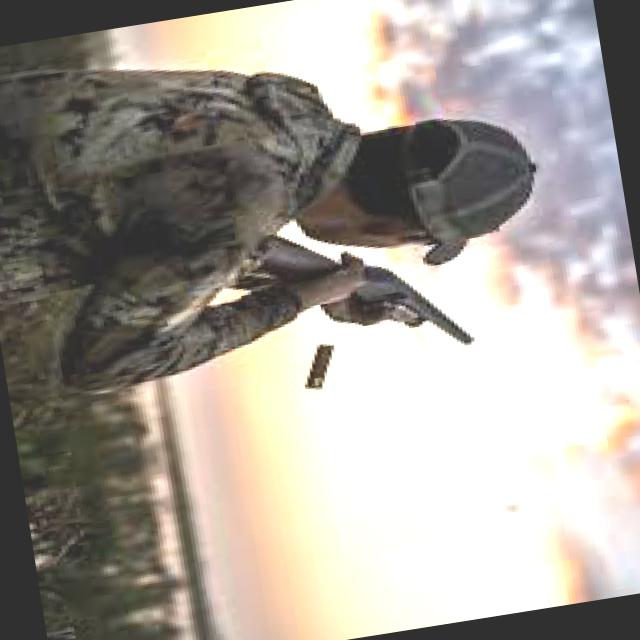long weapon: (234, 231, 499, 365)
